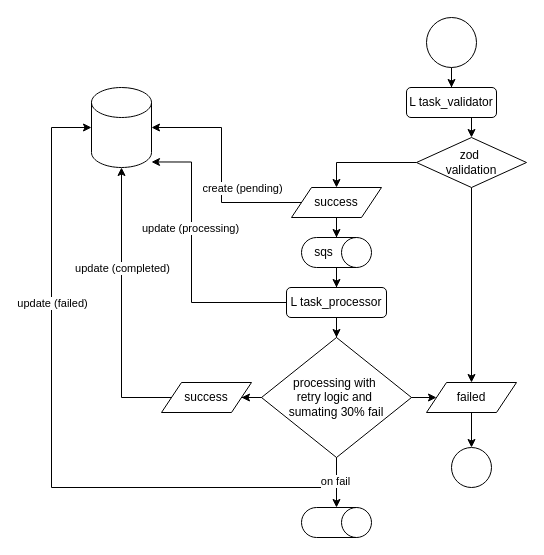
The diagram is 544 pixels wide and 555 high, and some of its shapes have lost their labels. Here are the shapes that lost their labels. From the top down, the centre of each, then its label:
point 451,42: POST /tasks
point 121,127: dynamo
point 471,467: end
point 336,522: dlq
